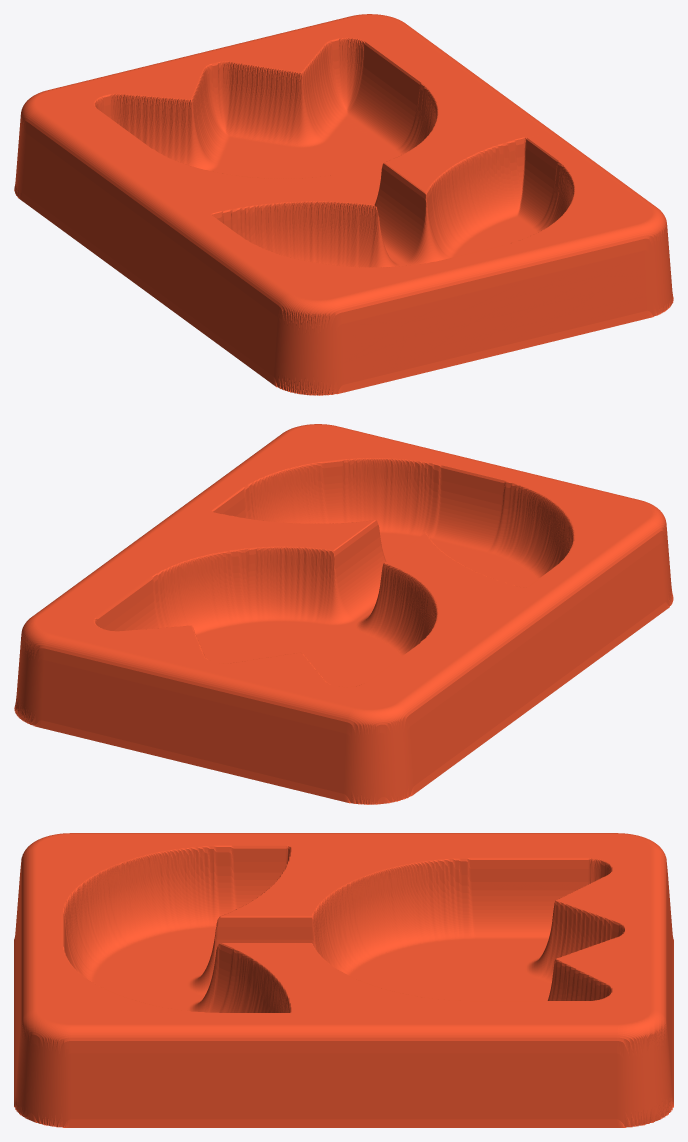
The model's file is mold.glb.
3 renders of one model, top to bottom at view 1: azimuth 30°, elevation 25°; view 2: azimuth 150°, elevation 25°; view 3: azimuth 270°, elevation 25°, orthographic. The views are drawn at different scales.
Parts seen in each view (by area): view 1: geometry_0; view 2: geometry_0; view 3: geometry_0.
Boxes of the visible parts, box(x1,y1,x2,y2) form: geometry_0: box(14, 14, 673, 395); geometry_0: box(14, 424, 673, 804); geometry_0: box(14, 833, 673, 1127).
Size of the model in its own units: 0.0786 by 0.0165 by 0.105.
